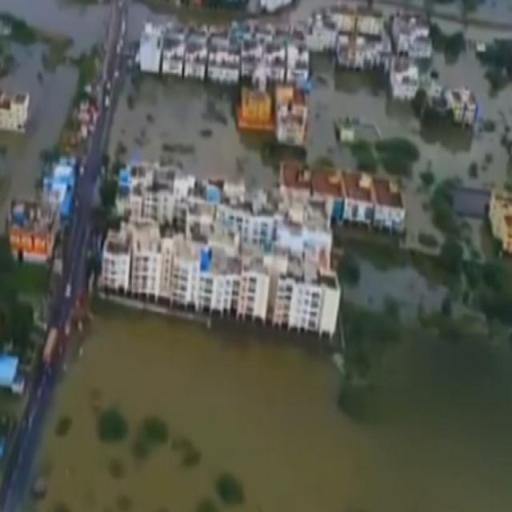flood: (29, 1, 512, 512), (0, 44, 78, 234), (126, 0, 339, 45), (0, 0, 110, 54)
house: (52, 190, 390, 332), (142, 16, 242, 90), (334, 168, 410, 239), (329, 4, 389, 66), (489, 182, 512, 263)
